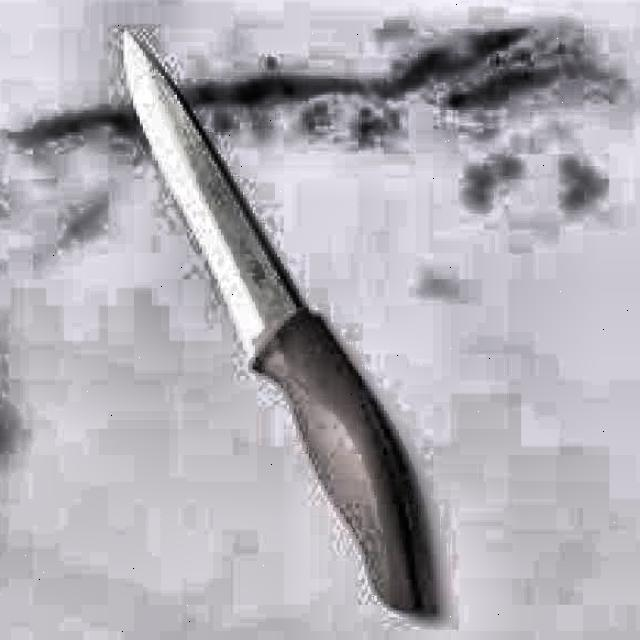knife: (115, 21, 474, 632)
